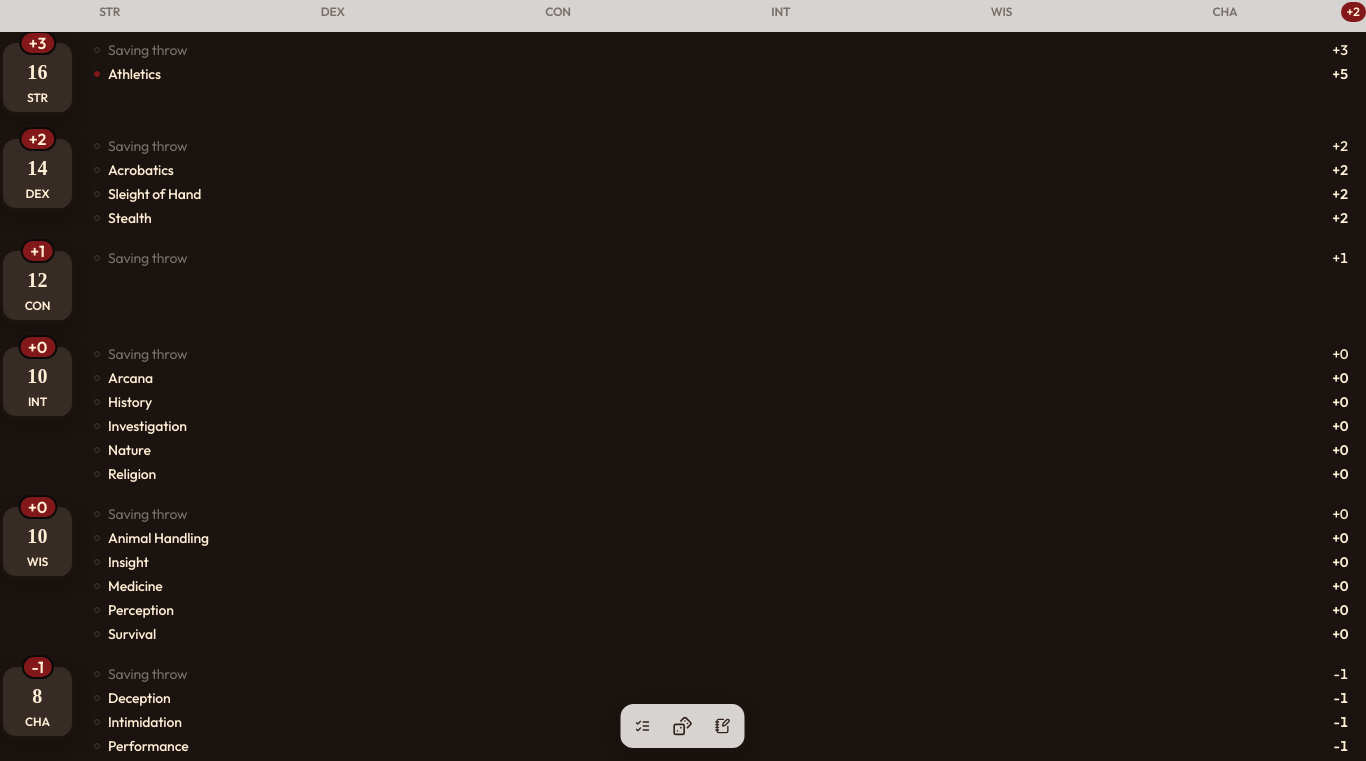
Test: AbilityChecksPanel › opens a saving throw from the first row
Click the button with aria-label "Roll Saving throw (DEX)" at (148, 146), box [84, 136, 1358, 156]
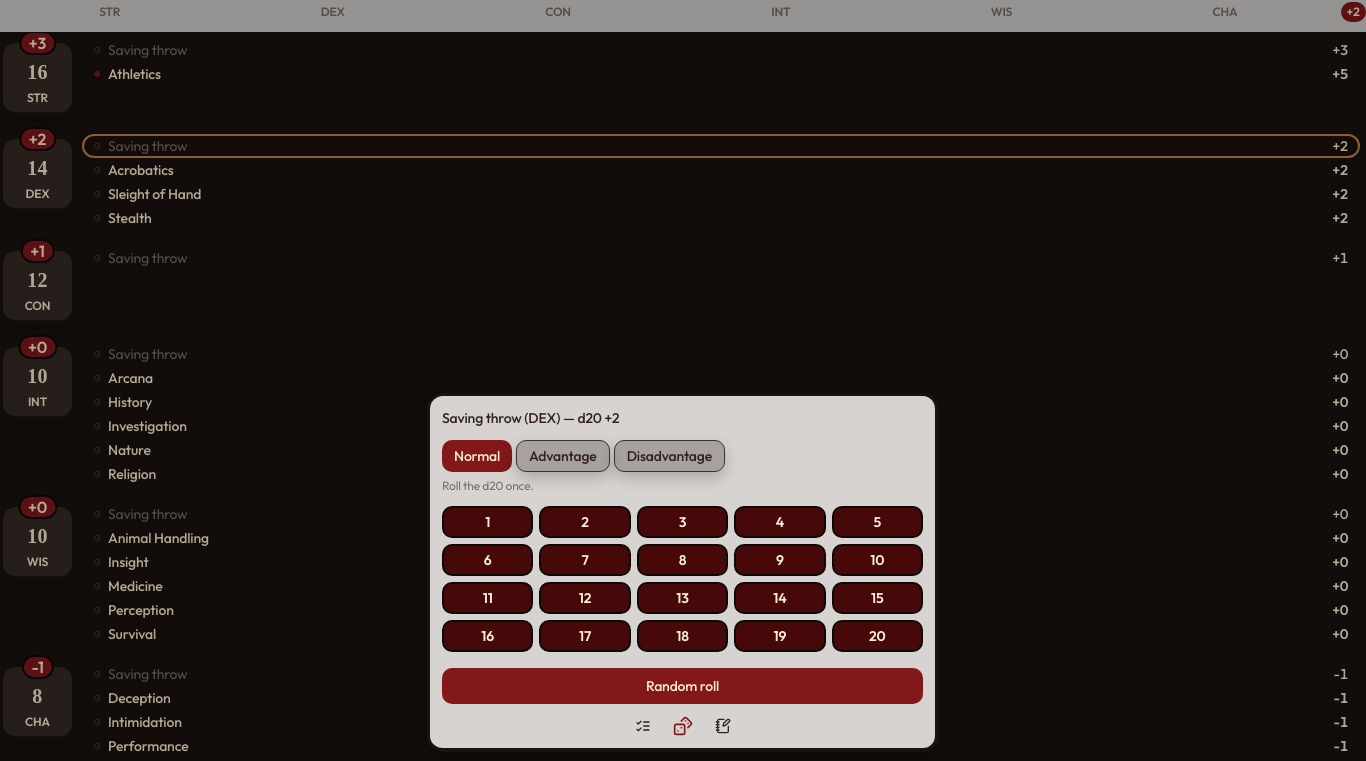
Now the text "Saving throw (DEX) — d20 +2" is shown, box [442, 409, 619, 427]
